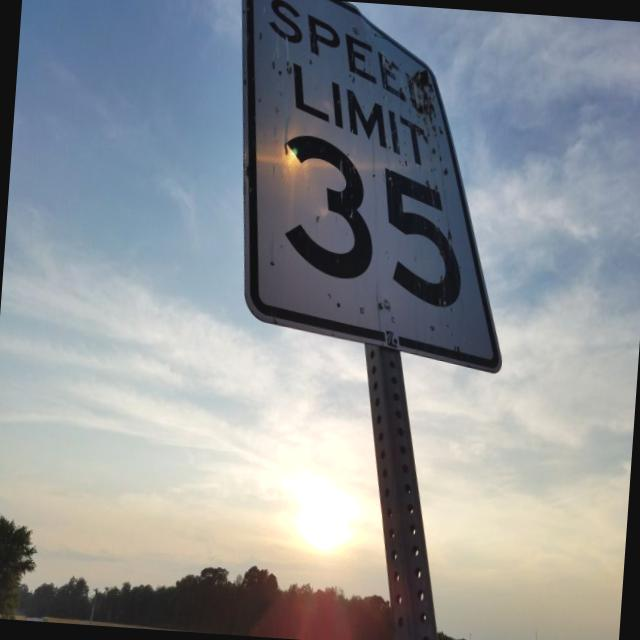Speed Limit Signs: (214, 0, 527, 376)
